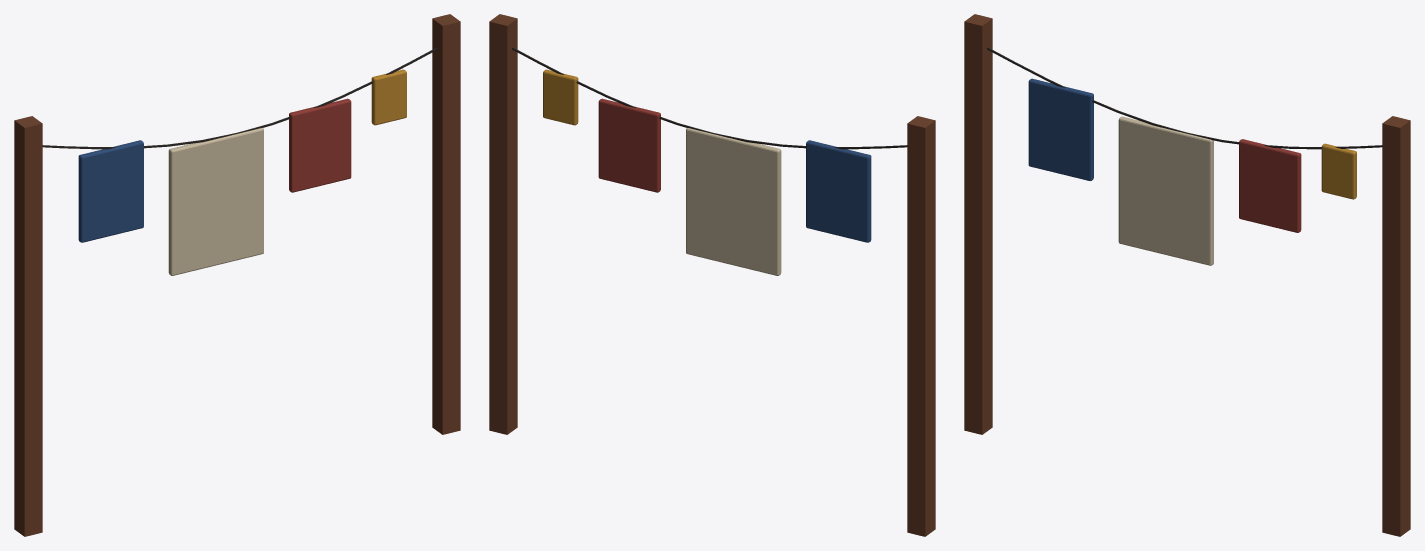
Rendered from ropa_tendida.glb.
3 renders of one model, left to right at view 1: azimuth 30°, elevation 25°; view 2: azimuth 150°, elevation 25°; view 3: azimuth 330°, elevation 25°, orthographic.
Visible parts, largest first — view 1: prenda.001, poste, poste.001, prenda, prenda.002, prenda.003; view 2: prenda.001, poste, poste.001, prenda, prenda.002, prenda.003; view 3: prenda.001, poste.001, poste, prenda, prenda.002, prenda.003.
Part boxes in pixels (bbox=[...]): prenda.001: bbox=[168, 128, 263, 275]; poste: bbox=[14, 116, 42, 536]; poste.001: bbox=[432, 14, 460, 434]; prenda: bbox=[78, 140, 143, 242]; prenda.002: bbox=[289, 98, 351, 192]; prenda.003: bbox=[371, 69, 406, 125]; prenda.001: bbox=[686, 128, 781, 275]; poste: bbox=[907, 116, 935, 536]; poste.001: bbox=[489, 14, 517, 434]; prenda: bbox=[806, 140, 871, 242]; prenda.002: bbox=[598, 98, 660, 192]; prenda.003: bbox=[543, 69, 578, 125]; prenda.001: bbox=[1118, 116, 1213, 265]; poste.001: bbox=[1382, 116, 1410, 536]; poste: bbox=[964, 14, 992, 434]; prenda: bbox=[1028, 78, 1093, 180]; prenda.002: bbox=[1239, 139, 1301, 232]; prenda.003: bbox=[1321, 143, 1356, 199].
Bounding box in the file's own units: 2.9 × 2.6 × 0.12.
